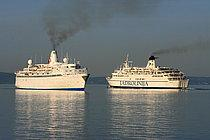Ship: (13, 48, 94, 94), (106, 52, 193, 92)
